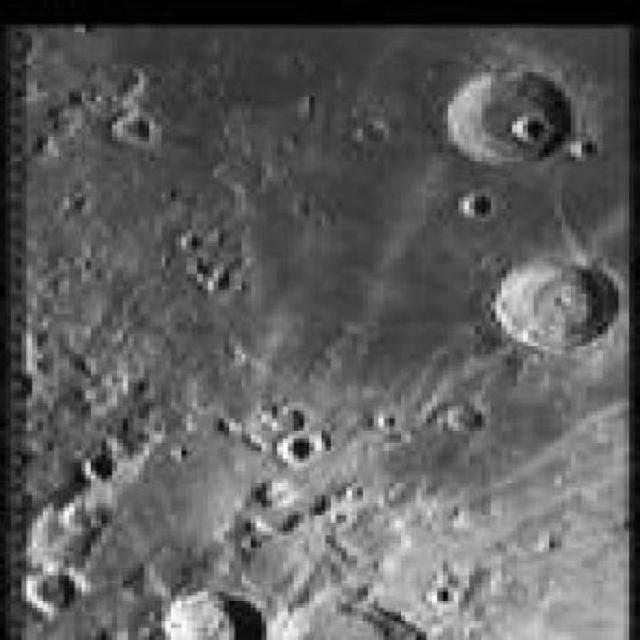crater: (445, 69, 580, 165), (495, 258, 620, 352), (458, 188, 496, 218), (283, 431, 317, 464), (518, 114, 552, 143)
